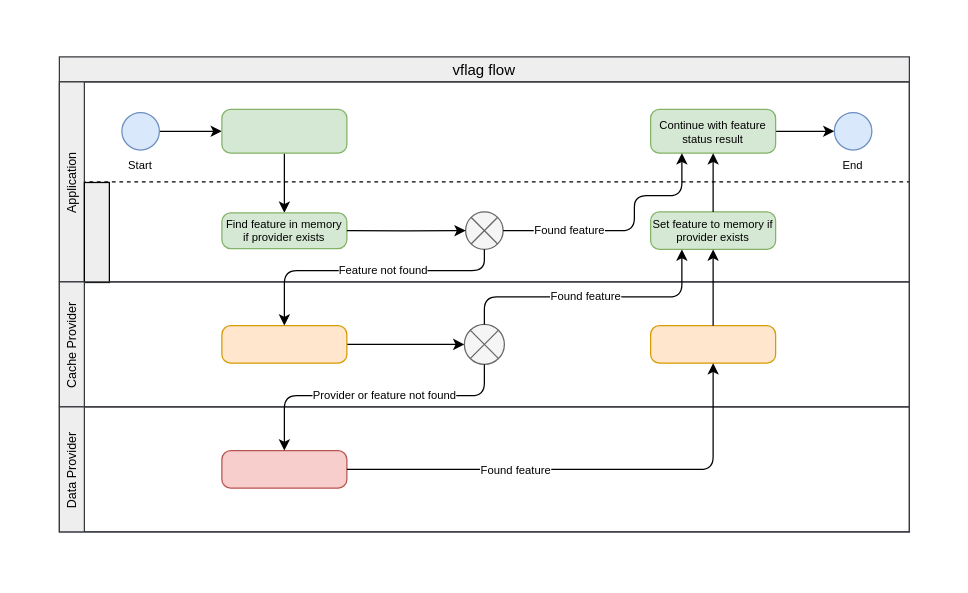
Image size: 968x593. Some labels were removed from this diagram. Each missing label, with the centre of its shape:
"Find feature in cache if provider exists" goes at (x=284, y=343).
"Find feature in data provider" goes at (x=284, y=468).
"Memory Provider" goes at (x=96, y=231).
"Request the feature flag to continue" goes at (x=284, y=130).
"Set feature to cache if provider exists" goes at (x=712, y=343).
